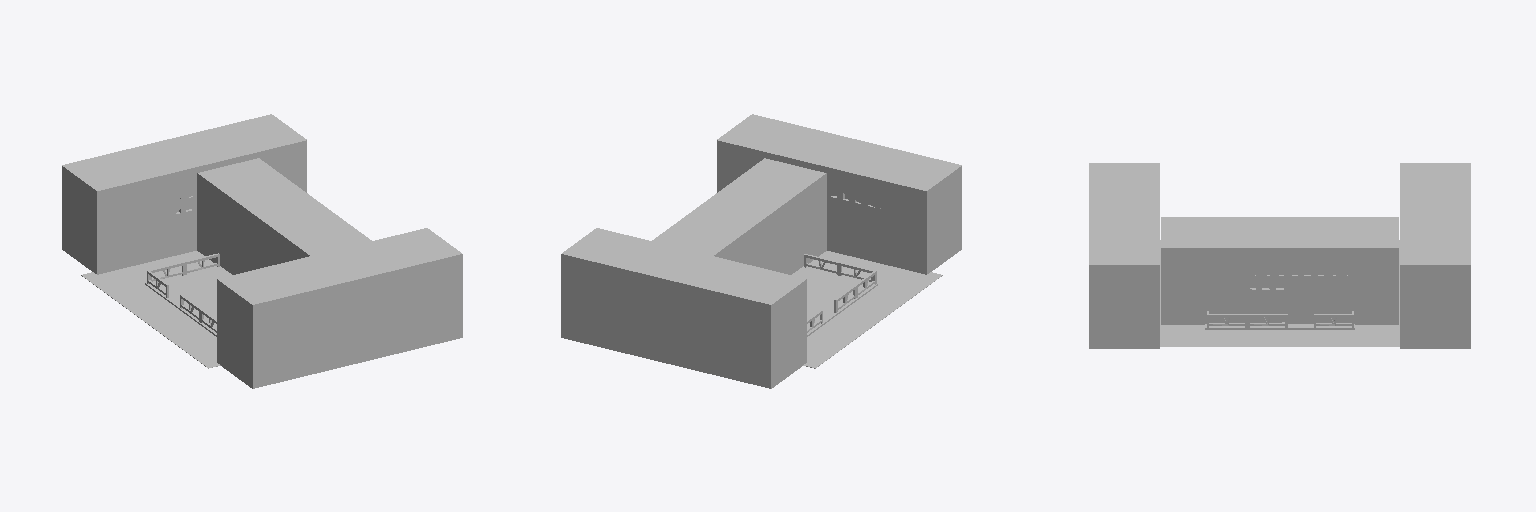
The model's file is moscowHouse.obj.
3 renders of one model, left to right at view 1: azimuth 30°, elevation 25°; view 2: azimuth 150°, elevation 25°; view 3: azimuth 270°, elevation 25°, orthographic.
Visible parts, largest first — view 1: Cube.001_Cube.013, Cube.002_Cube.014, Cube.003_Cube.004, Cube_Cube.001, Cube.004_Cube.005; view 2: Cube.002_Cube.014, Cube.001_Cube.013, Cube.003_Cube.004, Cube_Cube.001, Cube.004_Cube.005; view 3: Cube.003_Cube.004, Cube.001_Cube.013, Cube.002_Cube.014, Cube_Cube.001, Cube.004_Cube.005.
Boxes of the visible parts, x1,y1,x2,y2 form: Cube.001_Cube.013: [217, 228, 462, 388]; Cube.002_Cube.014: [62, 114, 306, 274]; Cube.003_Cube.004: [197, 158, 371, 274]; Cube_Cube.001: [81, 251, 220, 368]; Cube.004_Cube.005: [145, 266, 231, 336]; Cube.002_Cube.014: [561, 228, 806, 388]; Cube.001_Cube.013: [717, 114, 961, 274]; Cube.003_Cube.004: [652, 158, 826, 274]; Cube_Cube.001: [803, 251, 942, 368]; Cube.004_Cube.005: [792, 266, 877, 336]; Cube.003_Cube.004: [1161, 217, 1398, 324]; Cube.001_Cube.013: [1089, 163, 1159, 348]; Cube.002_Cube.014: [1400, 163, 1470, 348]; Cube_Cube.001: [1160, 240, 1399, 346]; Cube.004_Cube.005: [1205, 322, 1354, 329].
Bounding box in the file's own units: 132 × 50.67 × 195.